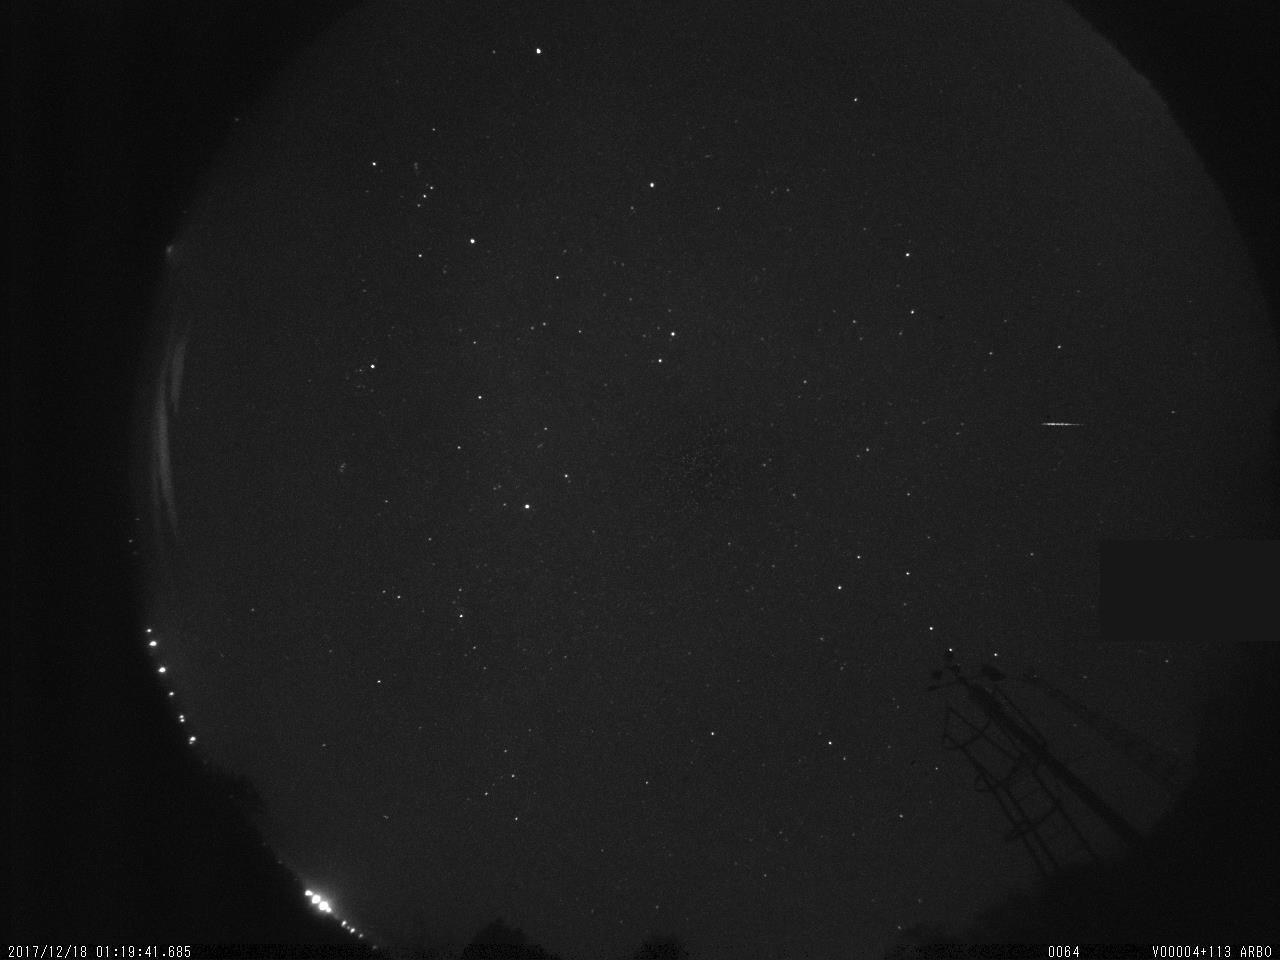Meteor: (1035, 418, 1089, 432)
